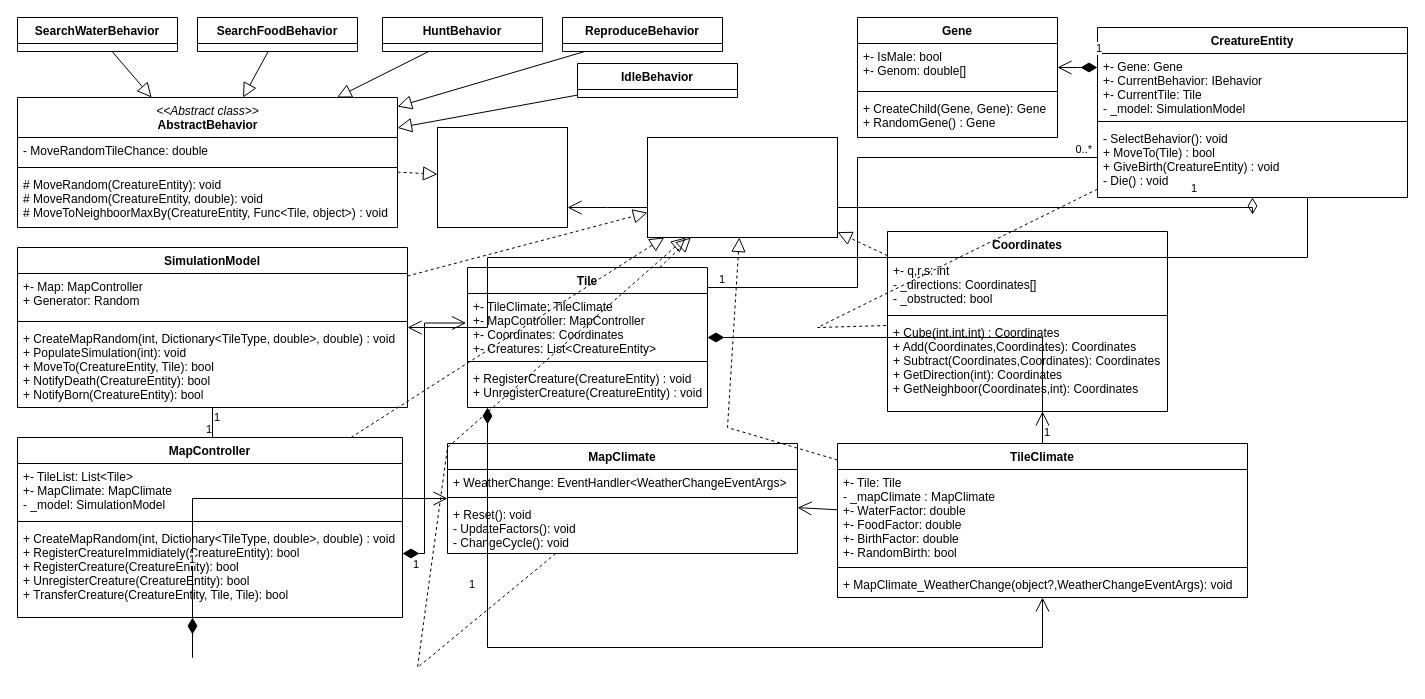
Some shapes in this 1425 by 699 pixel diagram are drawn without their labels. Here are the shapes that lost their labels. From the top down, the centre of each, then its label:
At point 502,177: "<<Interface>> IBehavior + DoBehavior(): bool".
At point 742,187: "<<Interface>> ISimulated + SimulateStep(): void".
